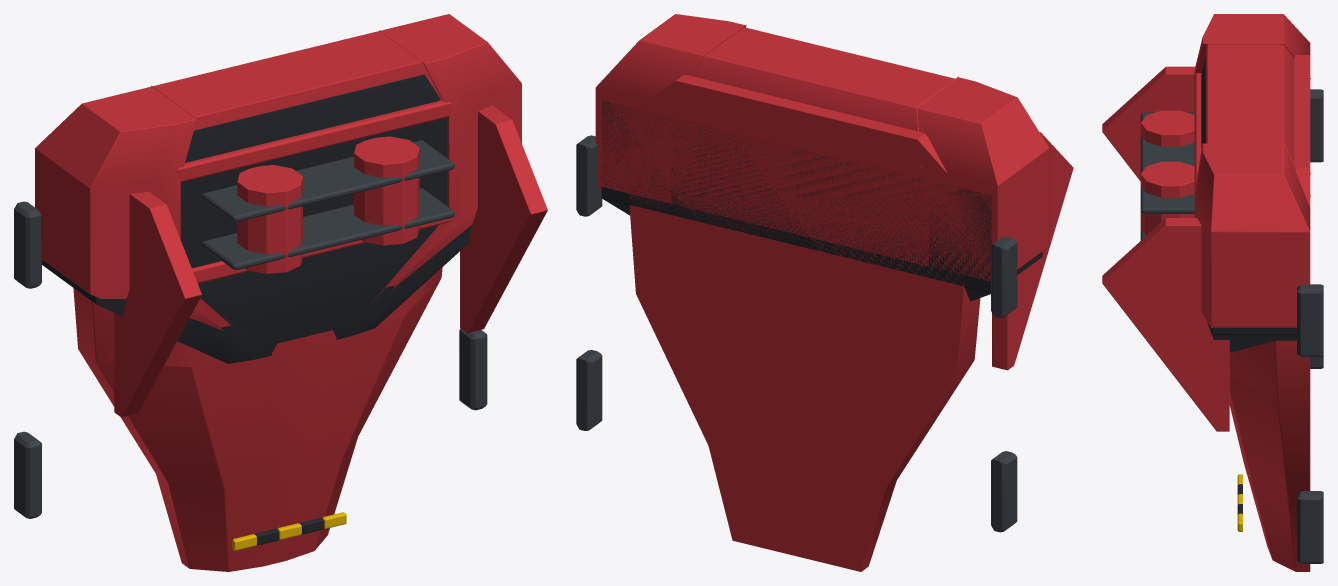
File: BodyBack_Set08_Goliath.fbx
3 renders of one model, left to right at view 1: azimuth 30°, elevation 25°; view 2: azimuth 150°, elevation 25°; view 3: azimuth 270°, elevation 25°, orthographic. The views are drawn at different scales.
Visible parts, largest first — view 1: BodyBack_Set08_Goliath; view 2: BodyBack_Set08_Goliath; view 3: BodyBack_Set08_Goliath.
Boxes of the visible parts, bbox=[...] form: BodyBack_Set08_Goliath: bbox=[14, 14, 547, 571]; BodyBack_Set08_Goliath: bbox=[576, 14, 1073, 571]; BodyBack_Set08_Goliath: bbox=[1102, 14, 1323, 571].
Size of the model in its own units: 1.07 by 1.1 by 0.4945.
